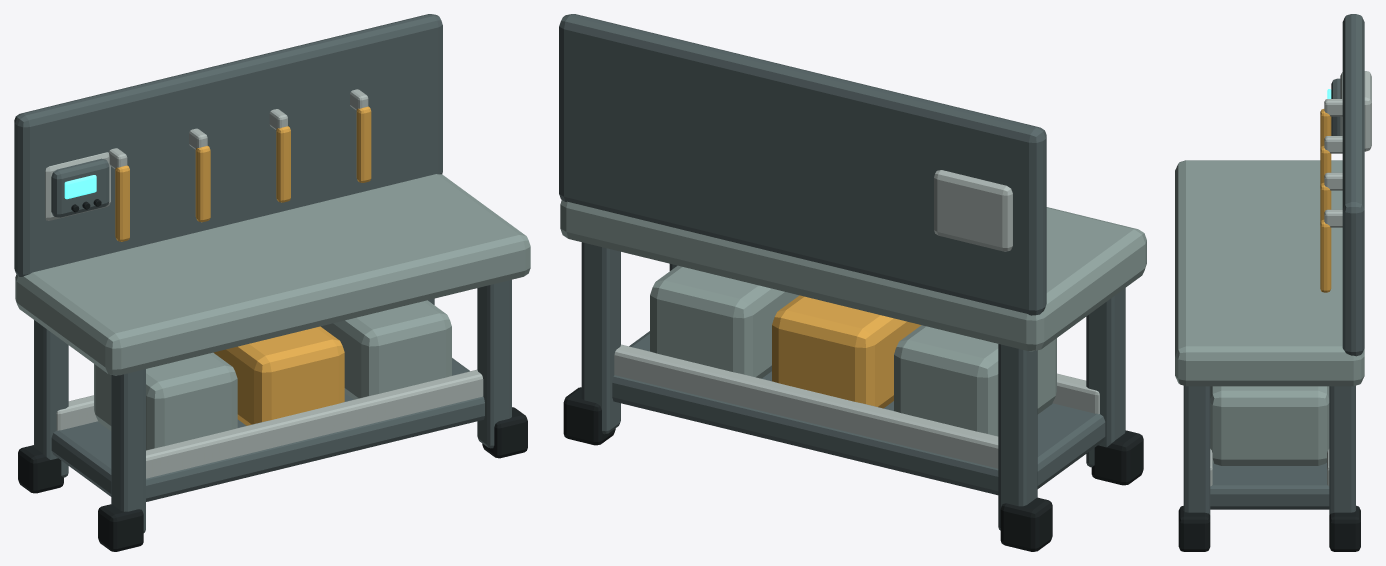
The model's file is Poste de récolte et entretien.glb.
3 renders of one model, left to right at view 1: azimuth 30°, elevation 25°; view 2: azimuth 150°, elevation 25°; view 3: azimuth 270°, elevation 25°, orthographic. The views are drawn at different scales.
Visible parts, largest first — view 1: 15_harvest_maintenance_bench_Backboard, 15_harvest_maintenance_bench_Worktop, 15_harvest_maintenance_bench_Lower_Support_Shelf, 15_harvest_maintenance_bench_Bin_Rail_-0.27, 15_harvest_maintenance_bench_Harvest_Bin_2, 15_harvest_maintenance_bench_Harvest_Bin_3, 15_harvest_maintenance_bench_Harvest_Bin_1, 15_harvest_maintenance_bench_Leg_1_-1, 15_harvest_maintenance_bench_Leg_-1_-1, 15_harvest_maintenance_bench_Leg_-1_1, 15_harvest_maintenance_bench_Control_Housing, 15_harvest_maintenance_bench_Foot_-1_-1 (+8 smaller); view 2: 15_harvest_maintenance_bench_Backboard, 15_harvest_maintenance_bench_Worktop, 15_harvest_maintenance_bench_Lower_Support_Shelf, 15_harvest_maintenance_bench_Bin_Rail_+0.27, 15_harvest_maintenance_bench_Harvest_Bin_2, 15_harvest_maintenance_bench_Harvest_Bin_3, 15_harvest_maintenance_bench_Harvest_Bin_1, 15_harvest_maintenance_bench_Leg_1_1, 15_harvest_maintenance_bench_Leg_-1_1, 15_harvest_maintenance_bench_Control_Mounting_Plate, 15_harvest_maintenance_bench_Leg_-1_-1, 15_harvest_maintenance_bench_Foot_-1_1 (+3 smaller); view 3: 15_harvest_maintenance_bench_Worktop, 15_harvest_maintenance_bench_Harvest_Bin_3, 15_harvest_maintenance_bench_Backboard, 15_harvest_maintenance_bench_Lower_Support_Shelf, 15_harvest_maintenance_bench_Leg_1_-1, 15_harvest_maintenance_bench_Leg_1_1, 15_harvest_maintenance_bench_Foot_1_-1, 15_harvest_maintenance_bench_Foot_1_1, 15_harvest_maintenance_bench_Tool_4, 15_harvest_maintenance_bench_Control_Mounting_Plate, 15_harvest_maintenance_bench_Control_Housing, 15_harvest_maintenance_bench_Tool_3 (+6 smaller).
Part boxes in pixels (left/top/right/bottom): 15_harvest_maintenance_bench_Backboard: left=14, top=14, right=442, bottom=276; 15_harvest_maintenance_bench_Worktop: left=15, top=174, right=530, bottom=375; 15_harvest_maintenance_bench_Lower_Support_Shelf: left=51, top=358, right=484, bottom=501; 15_harvest_maintenance_bench_Bin_Rail_-0.27: left=146, top=369, right=483, bottom=478; 15_harvest_maintenance_bench_Harvest_Bin_2: left=213, top=326, right=344, bottom=425; 15_harvest_maintenance_bench_Harvest_Bin_3: left=320, top=300, right=451, bottom=399; 15_harvest_maintenance_bench_Harvest_Bin_1: left=94, top=352, right=237, bottom=450; 15_harvest_maintenance_bench_Leg_1_-1: left=477, top=279, right=511, bottom=448; 15_harvest_maintenance_bench_Leg_-1_-1: left=111, top=369, right=145, bottom=532; 15_harvest_maintenance_bench_Leg_-1_1: left=34, top=320, right=68, bottom=477; 15_harvest_maintenance_bench_Control_Housing: left=51, top=158, right=109, bottom=217; 15_harvest_maintenance_bench_Foot_-1_-1: left=98, top=504, right=143, bottom=551; 15_harvest_maintenance_bench_Backboard: left=559, top=14, right=1046, bottom=315; 15_harvest_maintenance_bench_Worktop: left=560, top=200, right=1146, bottom=351; 15_harvest_maintenance_bench_Lower_Support_Shelf: left=612, top=331, right=1105, bottom=495; 15_harvest_maintenance_bench_Bin_Rail_+0.27: left=614, top=344, right=998, bottom=468; 15_harvest_maintenance_bench_Harvest_Bin_2: left=772, top=295, right=921, bottom=408; 15_harvest_maintenance_bench_Harvest_Bin_3: left=650, top=265, right=798, bottom=378; 15_harvest_maintenance_bench_Harvest_Bin_1: left=894, top=325, right=1056, bottom=436; 15_harvest_maintenance_bench_Leg_1_1: left=581, top=242, right=620, bottom=433; 15_harvest_maintenance_bench_Leg_-1_1: left=998, top=344, right=1037, bottom=530; 15_harvest_maintenance_bench_Control_Mounting_Plate: left=934, top=170, right=1012, bottom=251; 15_harvest_maintenance_bench_Leg_-1_-1: left=1086, top=288, right=1125, bottom=467; 15_harvest_maintenance_bench_Foot_-1_1: left=1000, top=497, right=1052, bottom=551; 15_harvest_maintenance_bench_Worktop: left=1175, top=160, right=1364, bottom=386; 15_harvest_maintenance_bench_Harvest_Bin_3: left=1210, top=386, right=1329, bottom=465; 15_harvest_maintenance_bench_Backboard: left=1342, top=14, right=1364, bottom=356; 15_harvest_maintenance_bench_Lower_Support_Shelf: left=1210, top=462, right=1329, bottom=509; 15_harvest_maintenance_bench_Leg_1_-1: left=1183, top=385, right=1210, bottom=514; 15_harvest_maintenance_bench_Leg_1_1: left=1329, top=385, right=1355, bottom=514; 15_harvest_maintenance_bench_Foot_1_-1: left=1178, top=506, right=1210, bottom=551; 15_harvest_maintenance_bench_Foot_1_1: left=1329, top=505, right=1360, bottom=551; 15_harvest_maintenance_bench_Tool_4: left=1320, top=219, right=1331, bottom=292; 15_harvest_maintenance_bench_Control_Mounting_Plate: left=1340, top=71, right=1371, bottom=151; 15_harvest_maintenance_bench_Control_Housing: left=1331, top=78, right=1340, bottom=135; 15_harvest_maintenance_bench_Tool_3: left=1320, top=182, right=1331, bottom=222.
Size of the model in its own units: 1.9 by 1.59 by 0.81.
